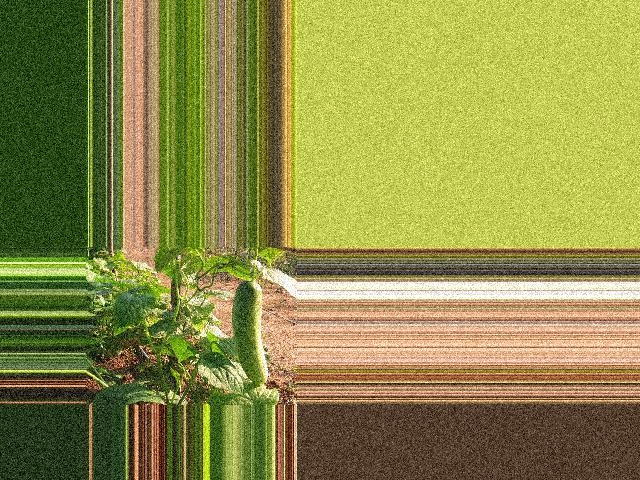cucumber: (232, 281, 268, 384)
